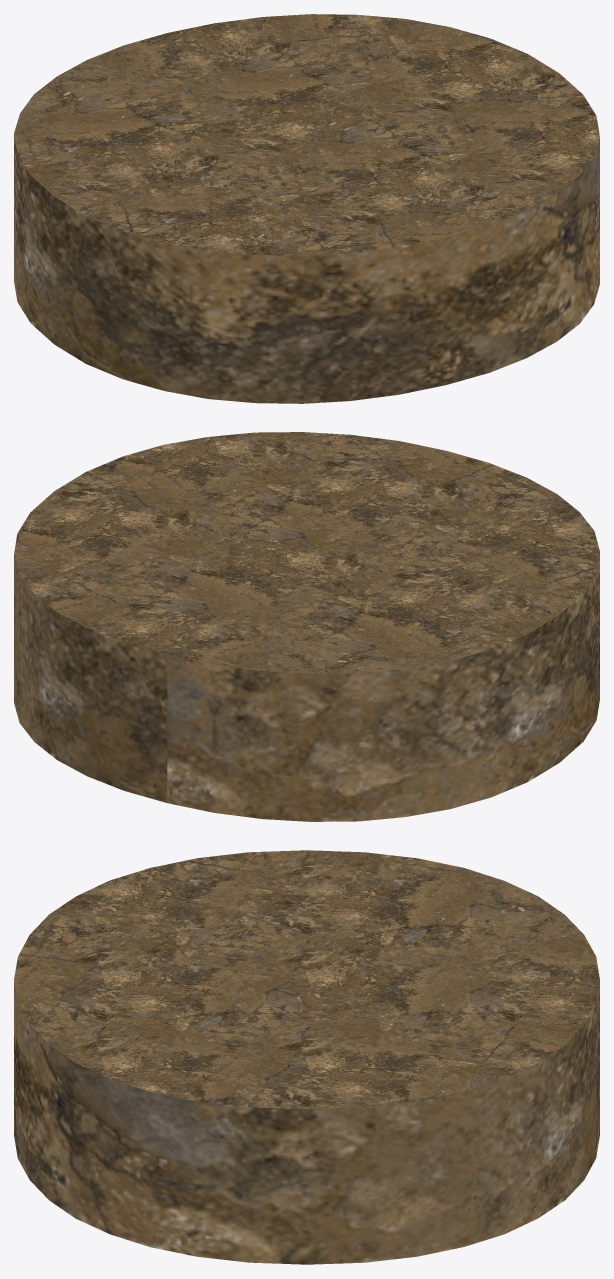
The model's file is tunnel_H2_1.glb.
The picture shows the model from 3 angles, top to bottom: view 1: azimuth 30°, elevation 25°; view 2: azimuth 150°, elevation 25°; view 3: azimuth 270°, elevation 25°; orthographic projection. The views are drawn at different scales.
Visible parts, largest first — view 1: XSBYSZK_02; view 2: XSBYSZK_02; view 3: XSBYSZK_02.
Boxes of the visible parts, bbox=[...] form: XSBYSZK_02: bbox=[14, 14, 599, 403]; XSBYSZK_02: bbox=[14, 432, 599, 821]; XSBYSZK_02: bbox=[14, 850, 599, 1264].
Size of the model in its own units: 4.29 by 1.2 by 4.1.
Materials: 1 (1 with a texture image).
